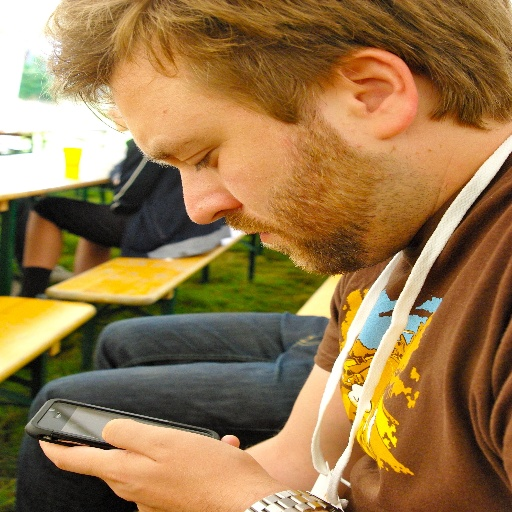hand: (38, 416, 262, 511)
